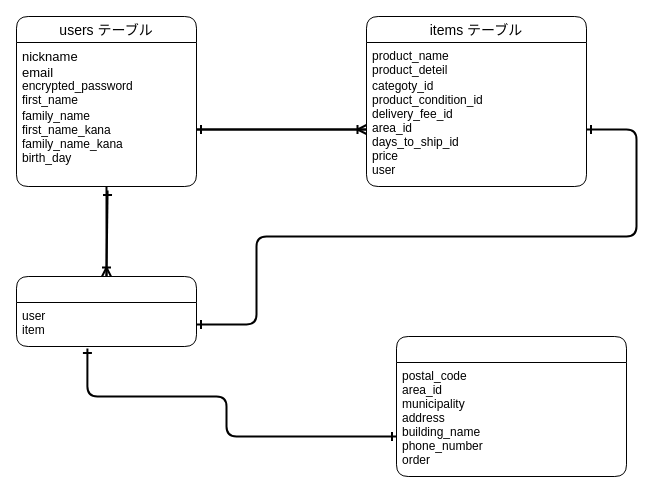
Some shapes in this 653 by 493 pixel diagram are drawn without their labels. Each missing label, with the box of its shape:
orders テーブル: (16, 276, 196, 346)
shipping_address テーブル: (396, 336, 626, 476)
